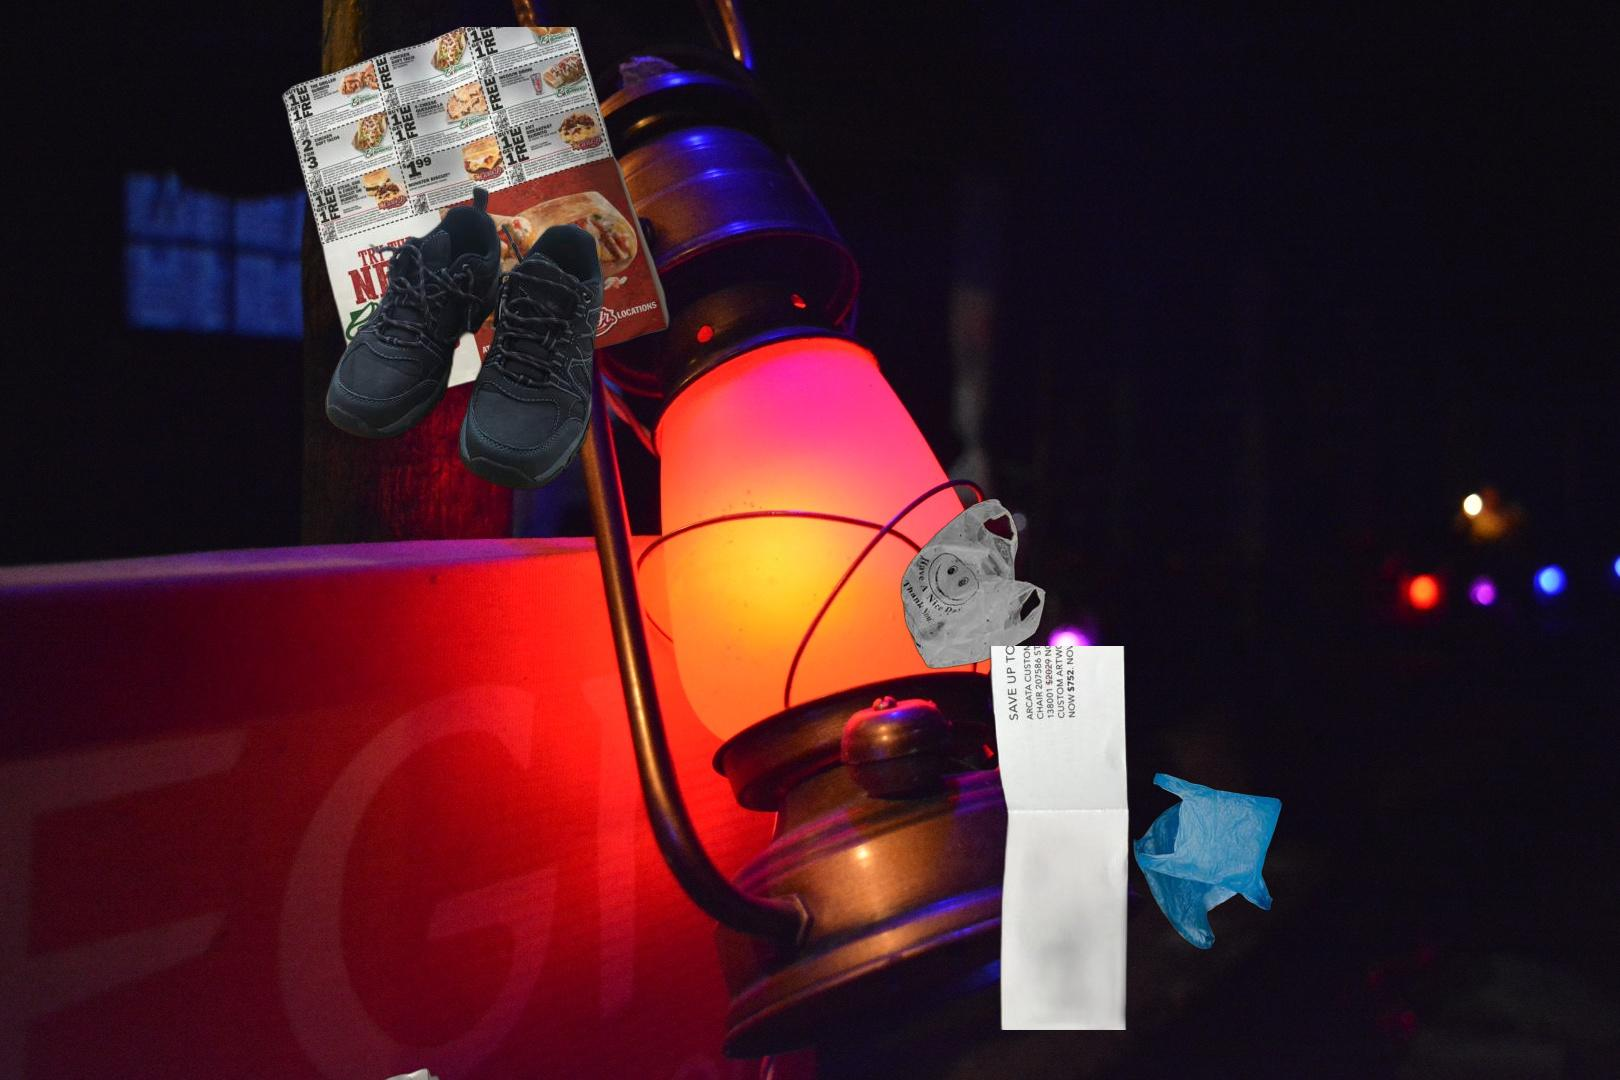paper: (278, 27, 674, 411), (832, 646, 1135, 1031), (115, 1064, 487, 1080)
plastic-bag: (1129, 769, 1286, 953), (898, 495, 1047, 670)
shoes: (321, 184, 607, 493)
